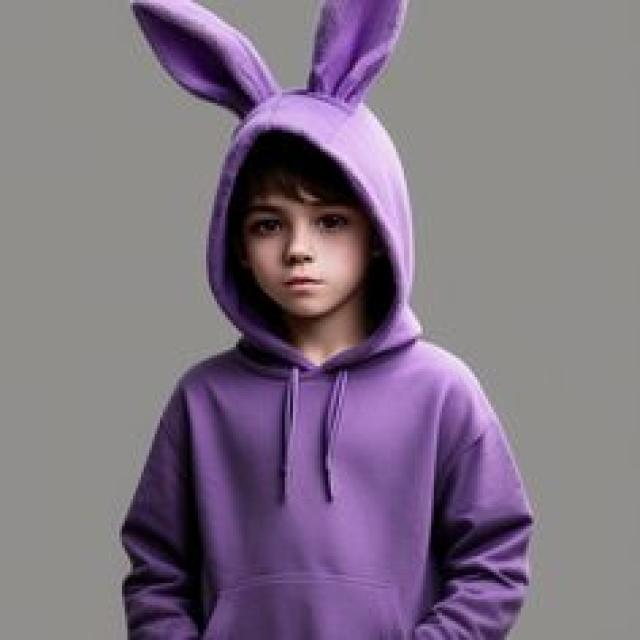4_capucha: (204, 92, 426, 382)
